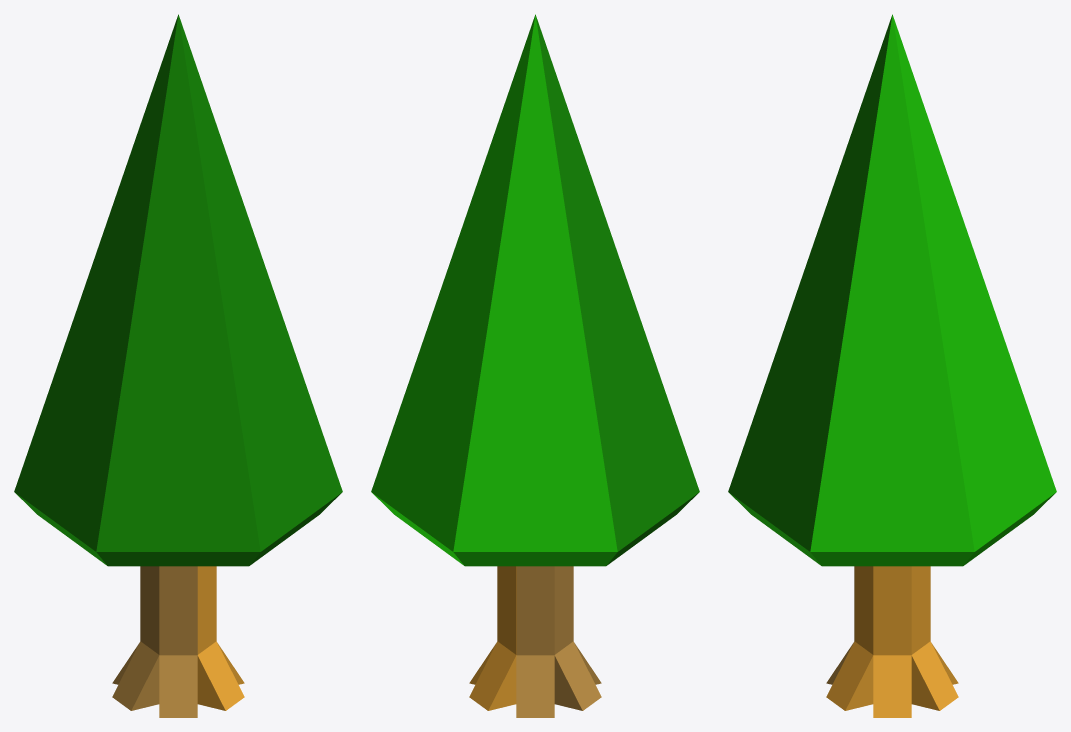
The model's file is Trees2.fbx.
3 views of the same model, side by side, from view 1: azimuth 30°, elevation 25°; view 2: azimuth 150°, elevation 25°; view 3: azimuth 270°, elevation 25° (orthographic).
Parts seen in each view (by area): view 1: Trees2; view 2: Trees2; view 3: Trees2.
Part boxes in pixels (x1=…): Trees2: x1=14, y1=14, x2=342, y2=717; Trees2: x1=371, y1=14, x2=699, y2=717; Trees2: x1=728, y1=14, x2=1056, y2=717.
Bounding box in the file's own units: 0.8772 × 2.3 × 1.01.
Materials: 1 (1 with a texture image).
